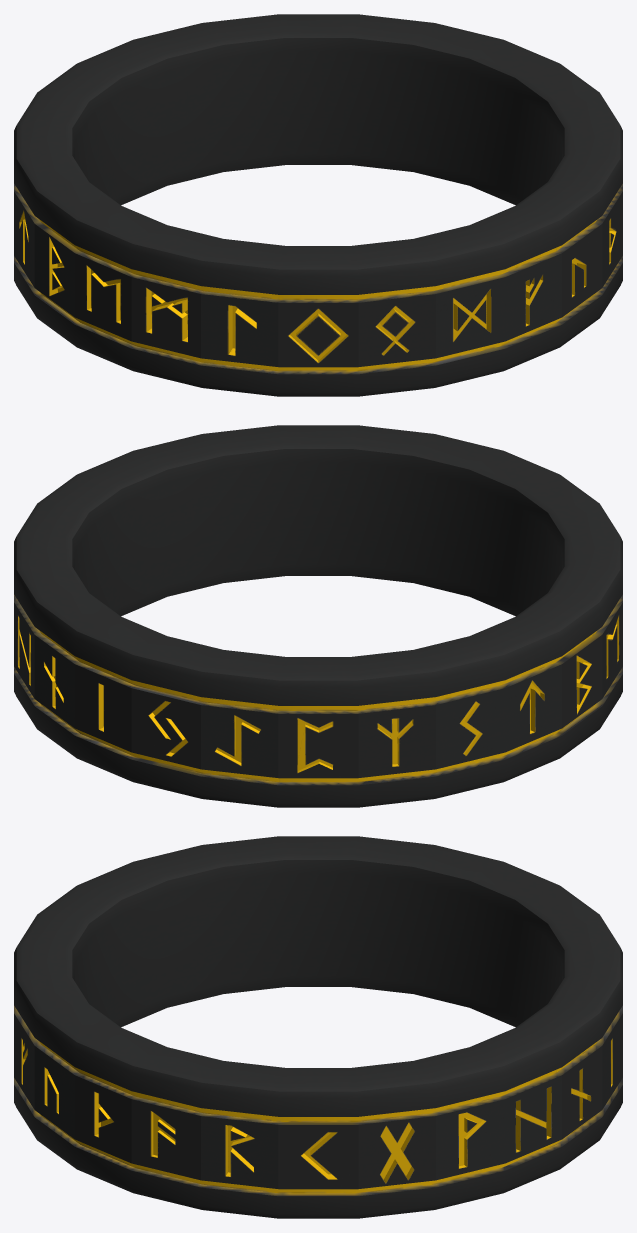
Rendered from runering.glb.
The picture shows the model from 3 angles, top to bottom: view 1: azimuth 30°, elevation 25°; view 2: azimuth 150°, elevation 25°; view 3: azimuth 270°, elevation 25°; orthographic projection.
Visible parts, largest first — view 1: pPipe26; view 2: pPipe26; view 3: pPipe26.
Boxes of the visible parts, <box> form: pPipe26: <box>14,14,622,396</box>; pPipe26: <box>14,425,622,807</box>; pPipe26: <box>14,836,622,1218</box>.
Bounding box in the file's own units: 0.3034 × 0.0724 × 0.3034.
1 material, 1 textured.
